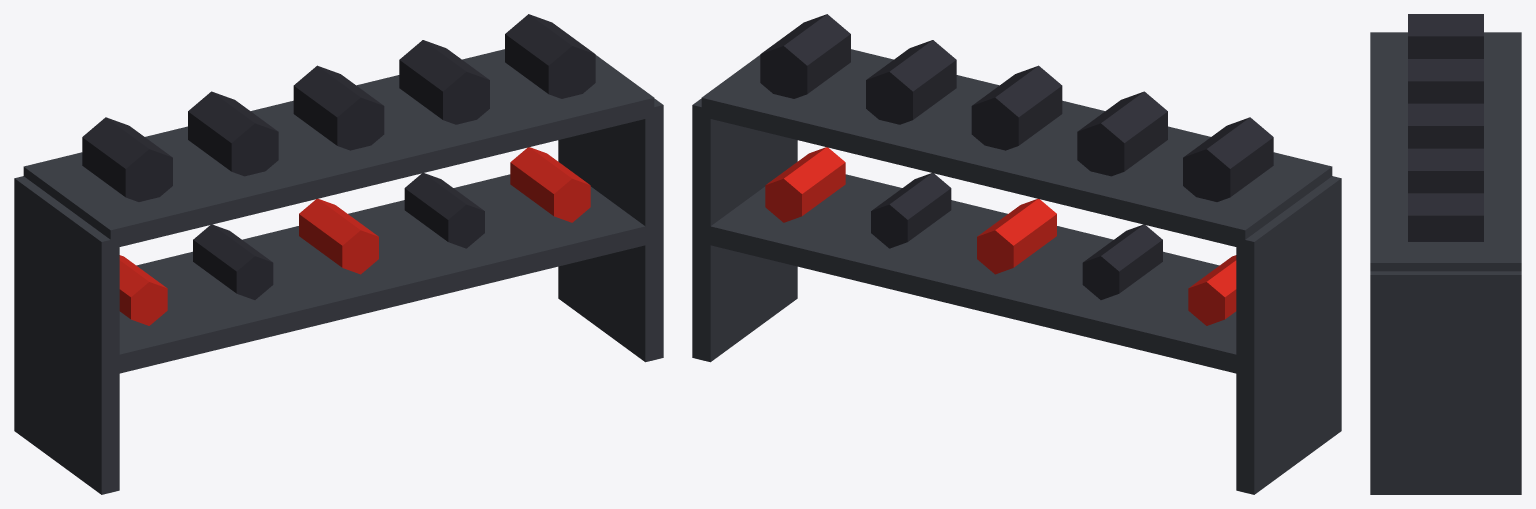
File: dumbbell_rack.fbx
The picture shows the model from 3 angles, left to right: view 1: azimuth 30°, elevation 25°; view 2: azimuth 150°, elevation 25°; view 3: azimuth 270°, elevation 25°; orthographic projection. The views are drawn at different scales.
Parts seen in each view (by area): view 1: dumbbell_rack; view 2: dumbbell_rack; view 3: dumbbell_rack.
Part boxes in pixels (x1,y1,x2,y2): dumbbell_rack: [14, 14, 663, 494]; dumbbell_rack: [692, 14, 1341, 494]; dumbbell_rack: [1370, 14, 1521, 494].
Size of the model in its own units: 1.86 by 0.99 by 0.5.
